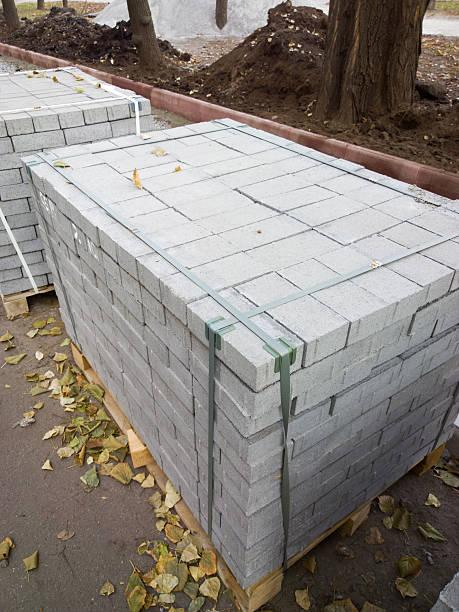Bricks: (188, 286, 303, 391), (235, 270, 351, 367), (278, 258, 388, 345), (320, 245, 422, 328), (158, 250, 273, 323), (355, 235, 456, 307), (292, 399, 389, 471), (288, 464, 374, 544), (137, 234, 241, 300), (295, 415, 389, 486), (116, 222, 215, 283), (212, 480, 294, 550), (287, 491, 365, 561), (382, 221, 458, 292), (98, 207, 190, 263), (293, 352, 372, 415), (79, 194, 170, 247), (212, 459, 297, 515), (212, 508, 282, 576), (214, 359, 291, 420), (213, 428, 293, 484), (247, 228, 344, 272), (364, 442, 433, 503), (214, 384, 291, 438), (373, 419, 441, 479), (332, 360, 403, 416), (215, 408, 284, 465), (294, 401, 361, 458), (313, 207, 405, 247), (222, 213, 311, 252), (222, 452, 295, 499), (295, 453, 350, 515), (58, 174, 148, 211), (148, 346, 194, 416), (72, 223, 122, 287), (45, 162, 120, 203), (31, 153, 106, 194), (144, 306, 190, 372), (373, 323, 435, 370), (151, 367, 194, 434), (152, 384, 195, 450), (21, 144, 92, 182), (288, 194, 369, 226), (374, 187, 450, 221), (197, 203, 280, 234), (221, 546, 279, 590), (388, 366, 440, 413), (174, 190, 255, 220), (153, 178, 236, 207), (258, 184, 341, 212), (113, 322, 151, 383), (400, 333, 451, 378), (346, 178, 418, 207), (113, 307, 149, 364), (107, 271, 144, 326), (410, 292, 458, 334), (238, 175, 315, 201), (382, 415, 432, 455), (137, 167, 213, 193), (292, 158, 364, 185), (380, 403, 427, 444), (320, 168, 390, 195), (409, 207, 458, 245), (411, 372, 458, 411), (122, 363, 155, 417), (287, 400, 330, 441), (125, 392, 160, 442), (217, 165, 289, 189), (290, 357, 332, 398), (121, 347, 153, 398), (370, 317, 414, 354), (108, 151, 178, 173), (268, 151, 337, 173), (200, 154, 265, 177), (124, 161, 195, 182), (333, 336, 371, 375), (112, 295, 146, 338), (83, 294, 114, 341), (40, 193, 73, 237), (189, 336, 221, 381), (360, 379, 400, 414), (254, 143, 315, 165), (54, 248, 84, 292), (91, 355, 123, 396), (83, 274, 112, 319), (181, 148, 246, 168), (122, 139, 187, 158), (109, 130, 174, 149), (76, 243, 106, 284), (67, 301, 97, 342), (168, 140, 228, 160), (162, 121, 232, 138), (215, 129, 277, 148), (192, 377, 217, 424), (233, 136, 294, 155), (95, 325, 120, 371), (195, 420, 220, 465), (422, 344, 458, 375), (144, 326, 169, 369), (349, 432, 381, 465), (350, 444, 382, 477), (165, 311, 191, 351), (69, 249, 96, 287), (73, 323, 99, 362), (140, 286, 165, 325), (170, 353, 193, 394), (56, 191, 81, 228), (53, 218, 78, 255), (191, 357, 214, 397), (202, 125, 258, 141), (162, 454, 183, 495), (61, 277, 86, 311), (426, 389, 454, 419), (194, 398, 215, 438), (181, 480, 200, 523), (176, 445, 198, 482), (177, 458, 197, 497), (176, 428, 197, 464), (386, 399, 414, 425), (155, 402, 175, 438), (120, 268, 141, 302), (432, 310, 458, 337), (49, 227, 69, 259), (159, 423, 178, 455), (437, 356, 458, 384), (196, 438, 213, 472), (401, 366, 423, 391), (95, 148, 133, 162), (96, 274, 113, 304), (177, 134, 214, 147), (84, 140, 120, 153), (199, 469, 214, 500), (198, 454, 213, 483), (198, 483, 212, 511), (216, 117, 247, 128), (199, 513, 211, 536), (200, 501, 212, 523), (211, 532, 221, 556)
